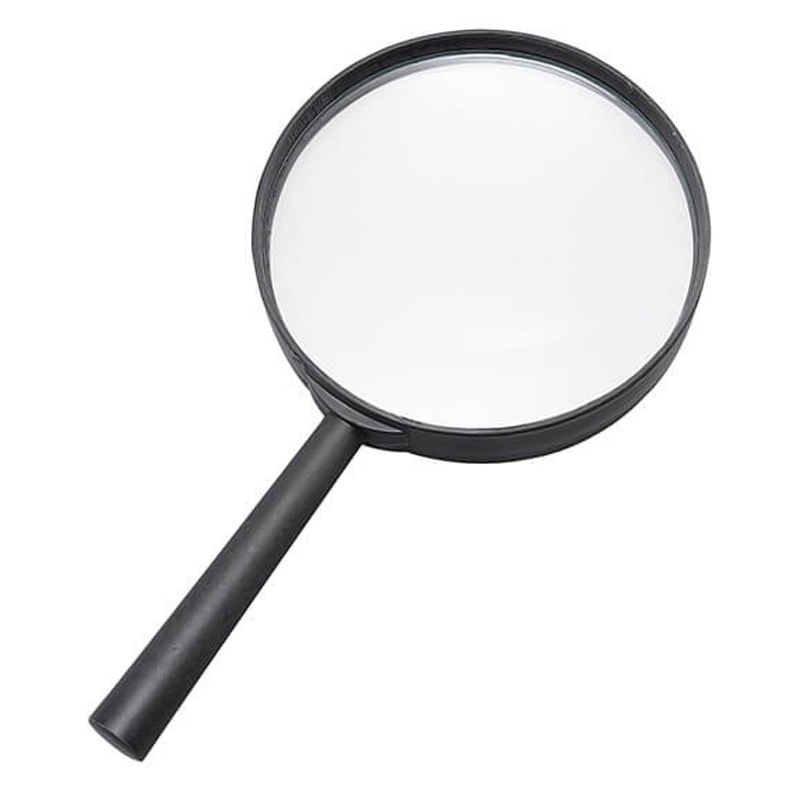magnifying-glass: (222, 23, 740, 518)
